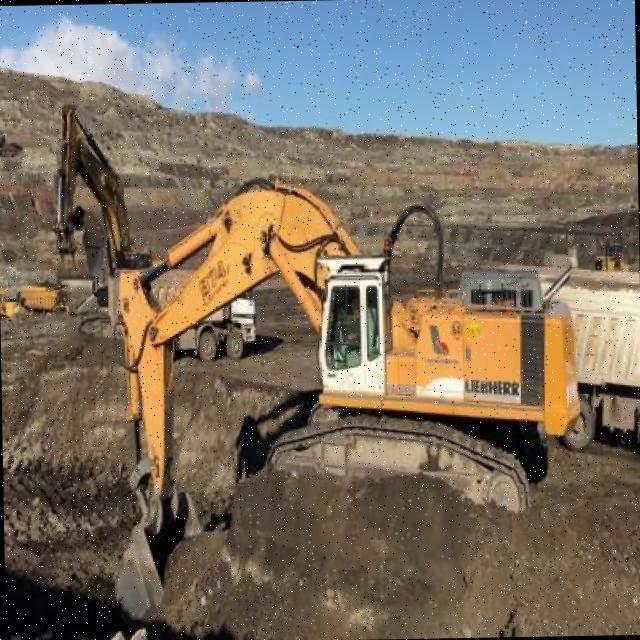Dump Truck: (558, 258, 640, 444), (20, 282, 68, 310)
Excavator: (103, 176, 580, 640), (46, 104, 155, 330)
